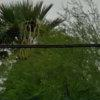Palm tree: (2, 2, 67, 44)
